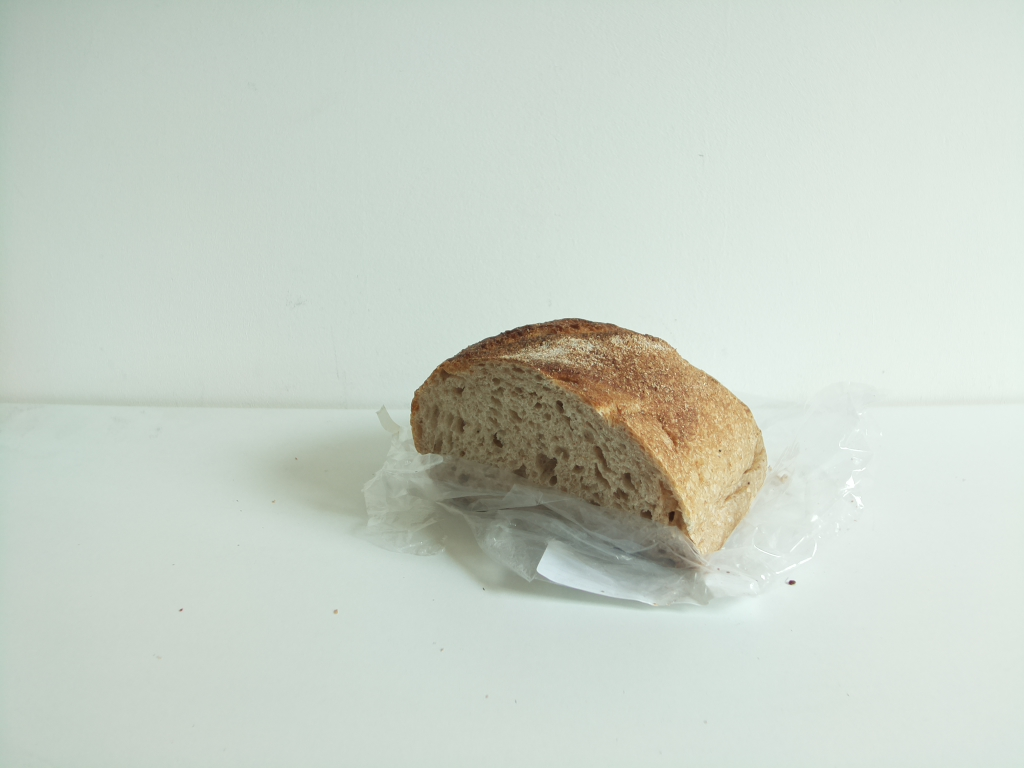bread: (410, 319, 770, 575)
